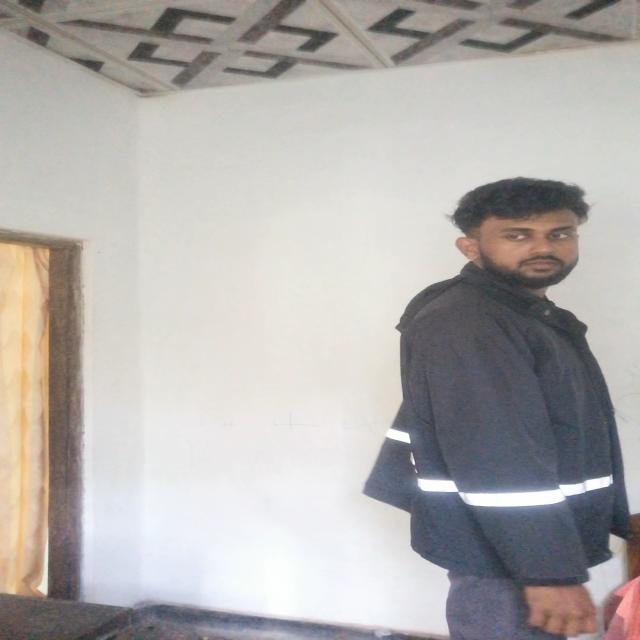Jacket_Wearer: (371, 260, 640, 576)
